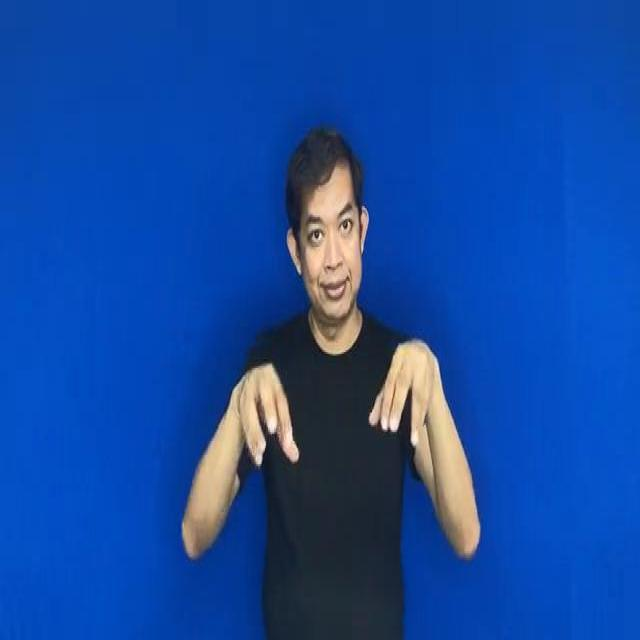egg: (216, 329, 444, 479)
